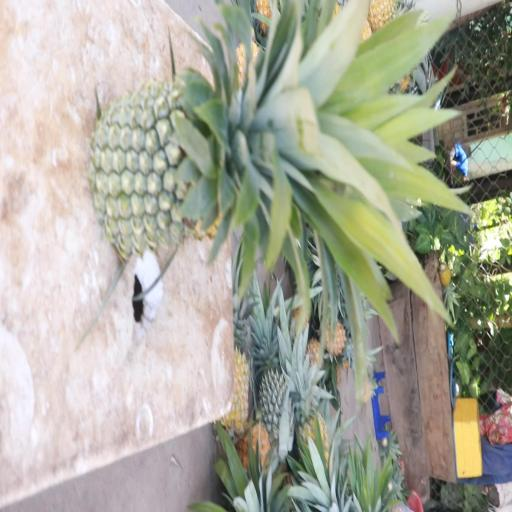------------------------------: (97, 63, 399, 254)
Pineapple - v8 v1: (289, 350, 338, 478), (220, 297, 262, 445)
